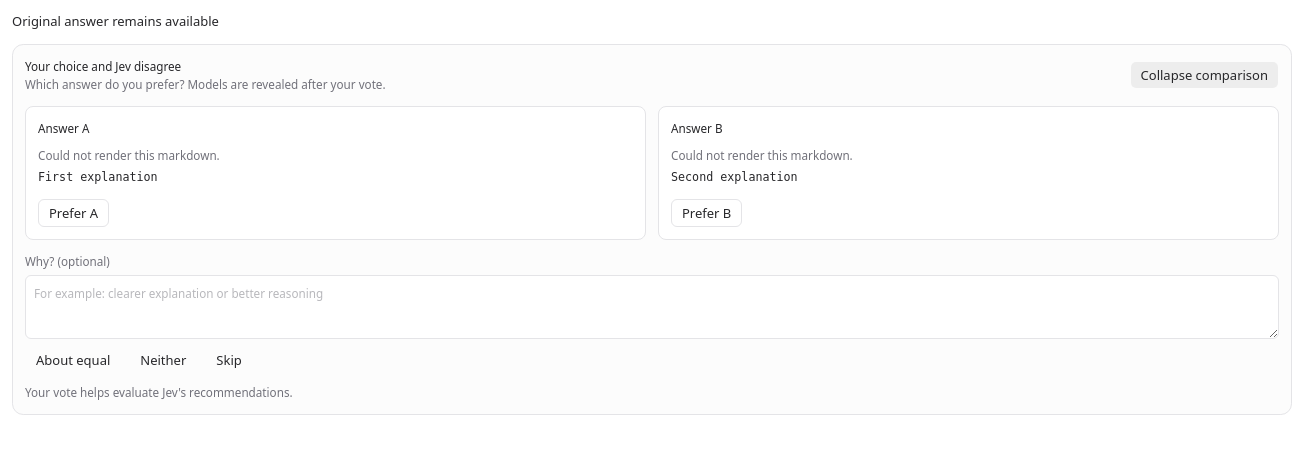
Test: retains the draft after failed saves and only acknowledges a successful retry
Type "Keep this draft" into the text box labelled "Why? (optional)" at (652, 307), box [25, 275, 1279, 339]
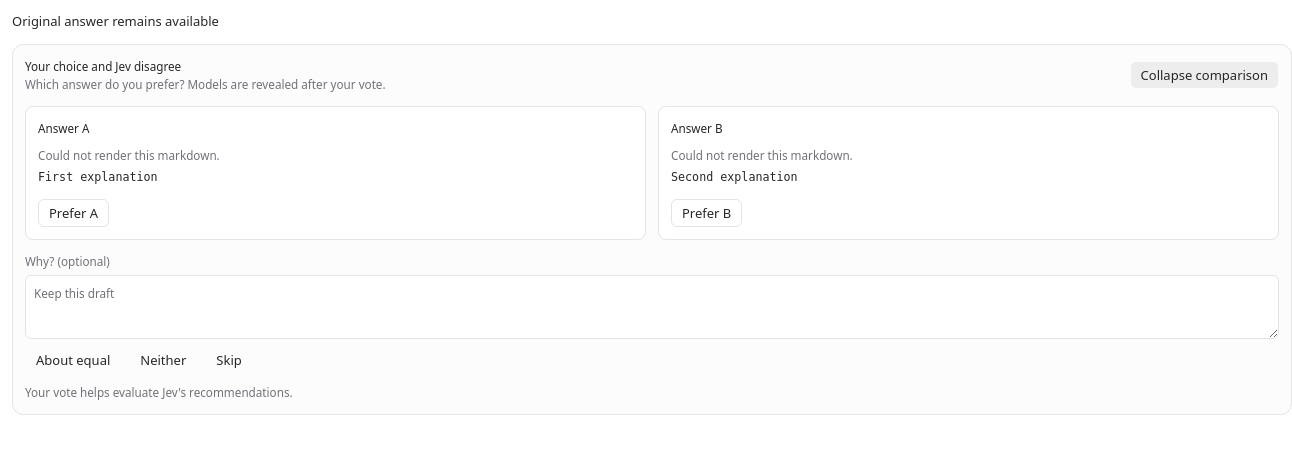
Click the button "Prefer A" at (74, 213), box [38, 199, 109, 227]
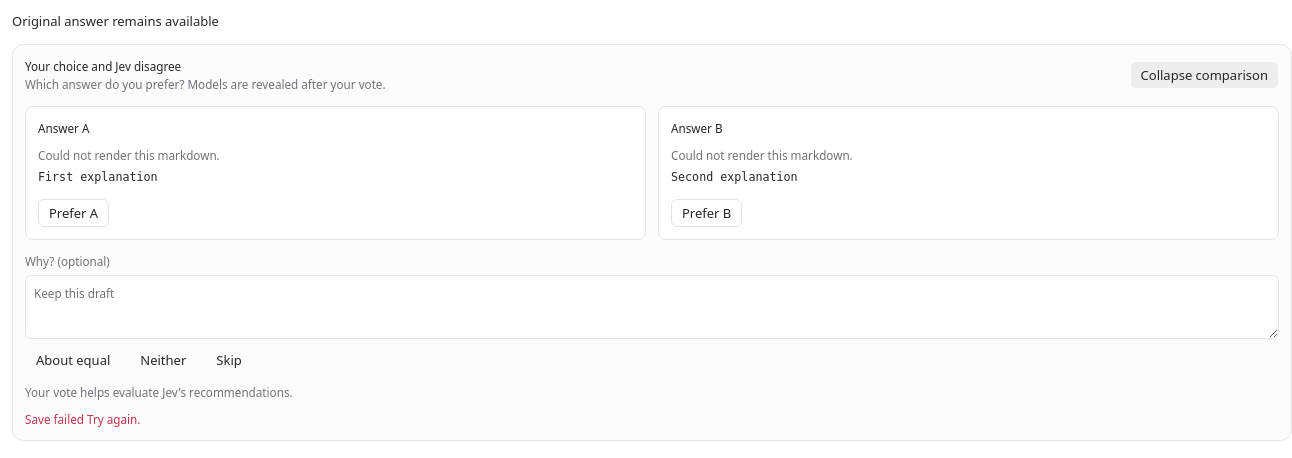
Expected: the text "Saved to server" is not shown
Expected: the message "Save failed Try again." is shown, [25, 410, 140, 426]
Click the button "Prefer A" at (74, 213), box [38, 199, 109, 227]
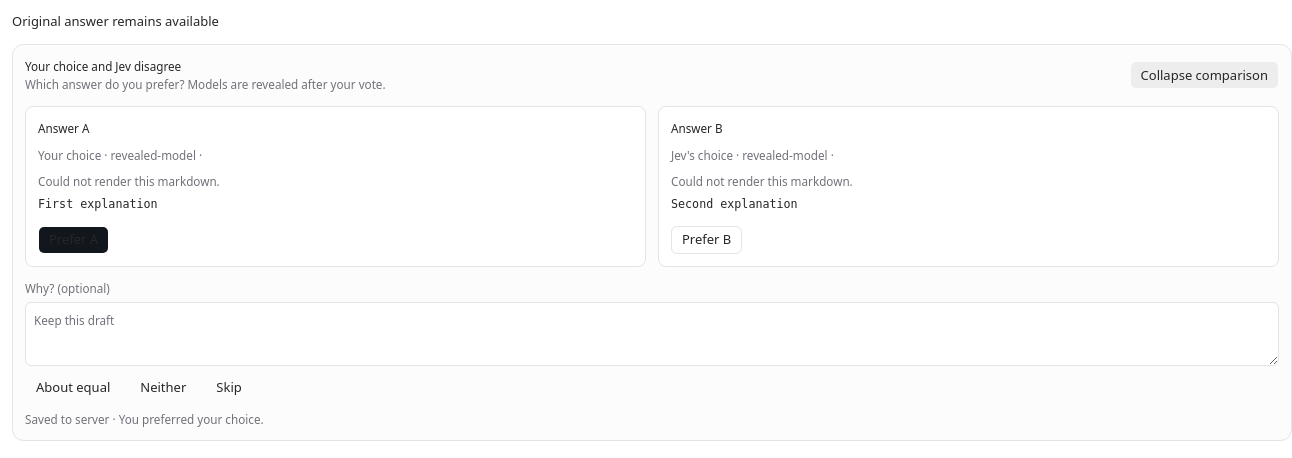
Expected: the text "Saved to server · You preferred your choice." is shown, [25, 410, 264, 426]
